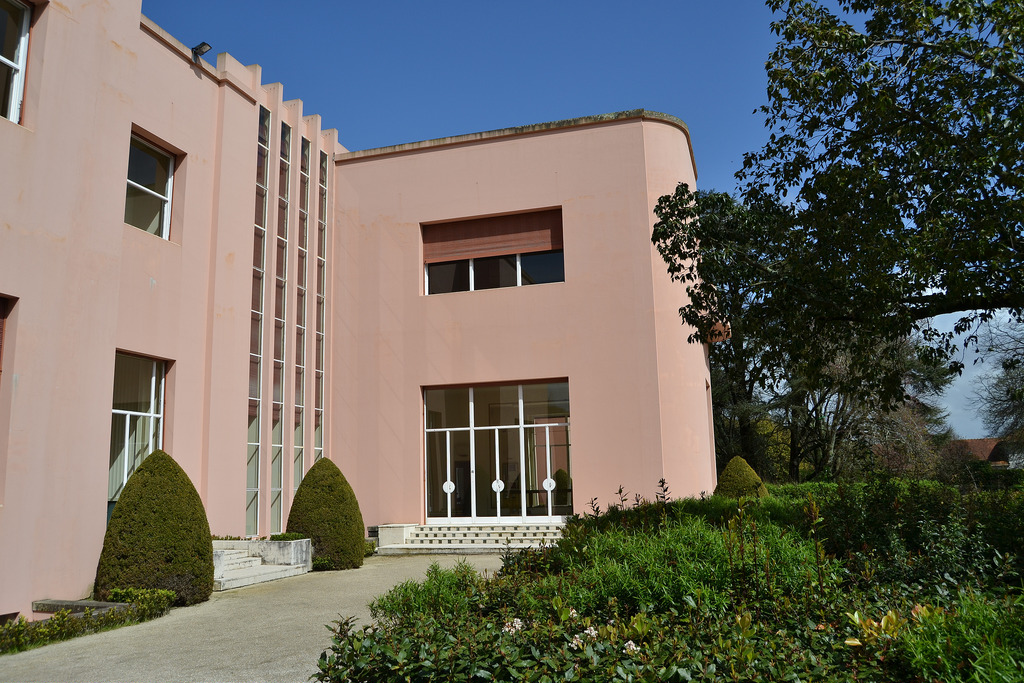serralves: (0, 0, 723, 649)
